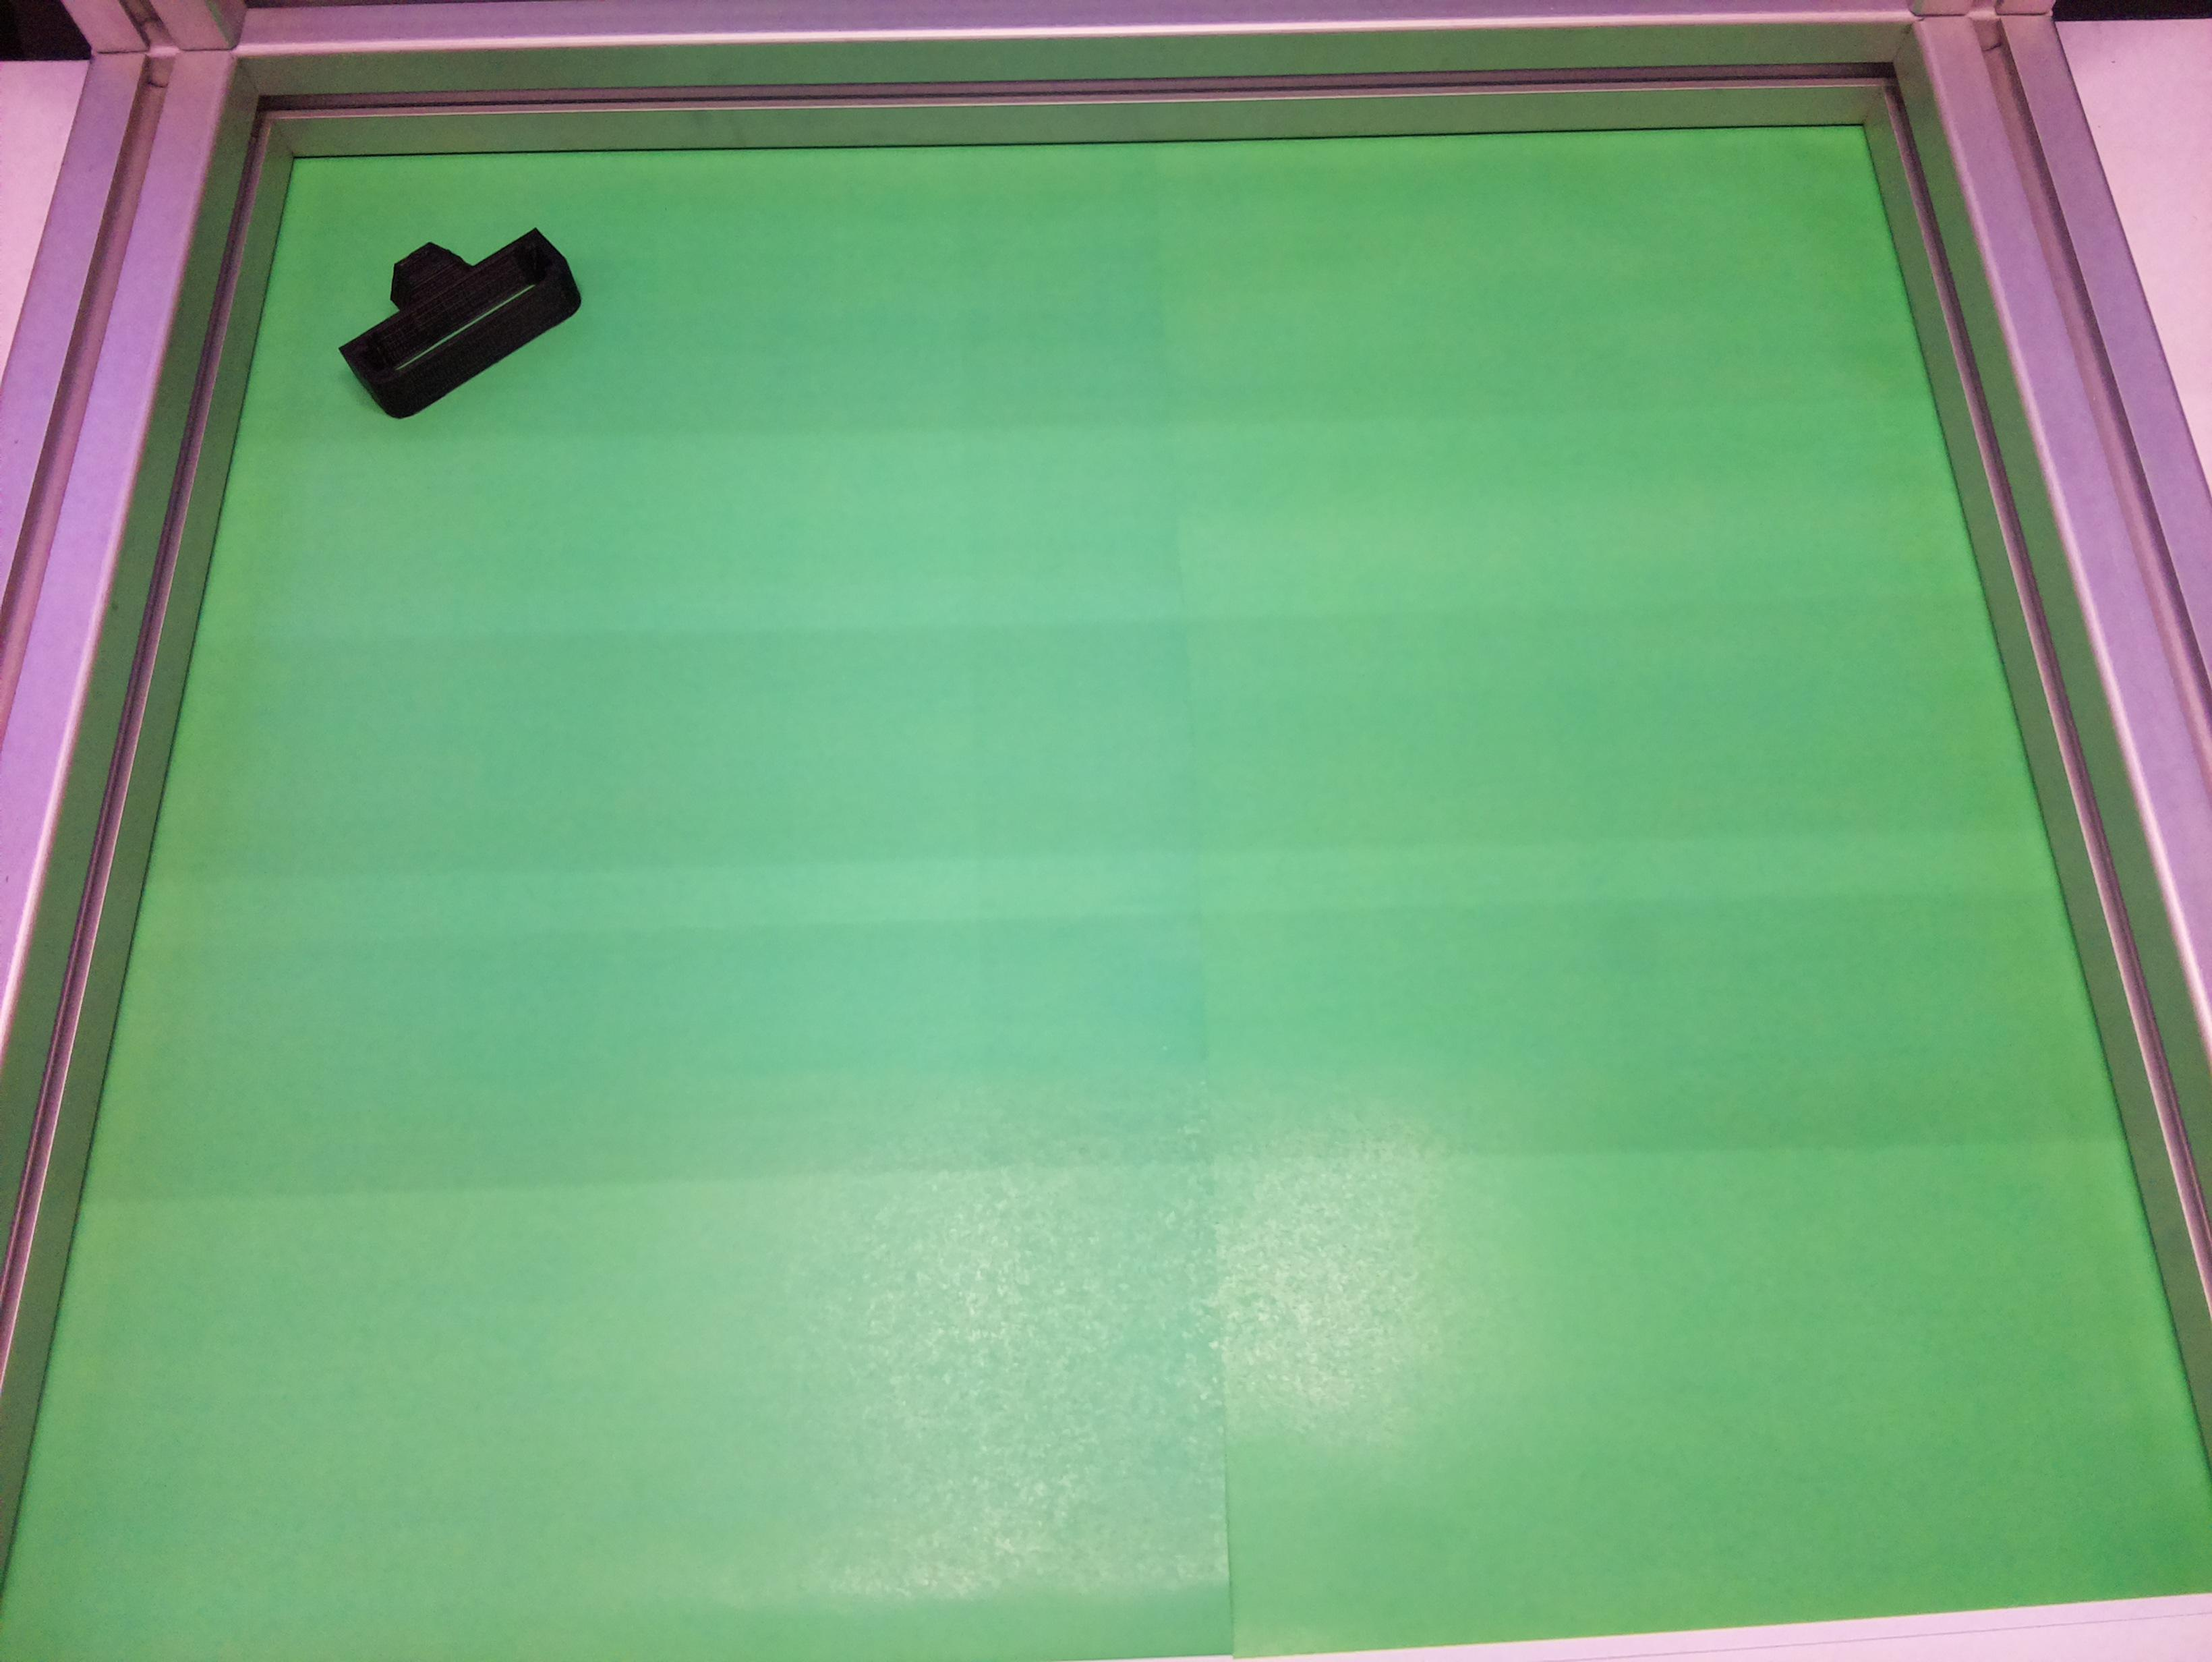cutter_holder: (316, 185, 592, 431)
